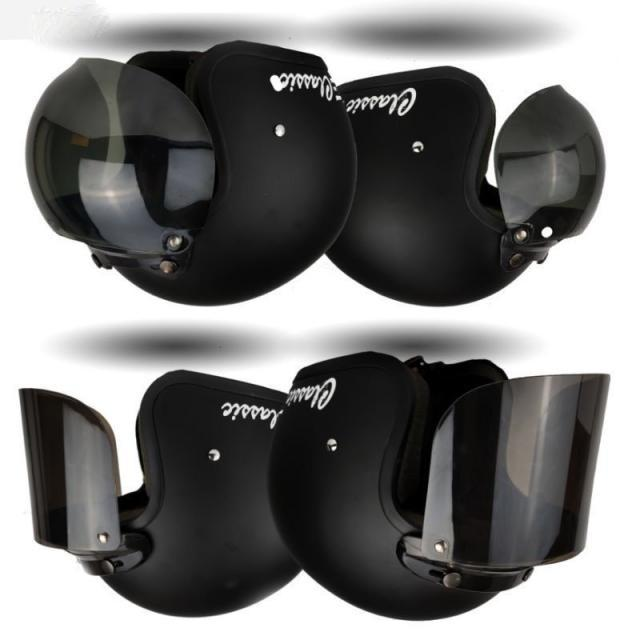Helm: (269, 356, 613, 629), (25, 42, 362, 314), (19, 362, 302, 624), (318, 62, 604, 310)
